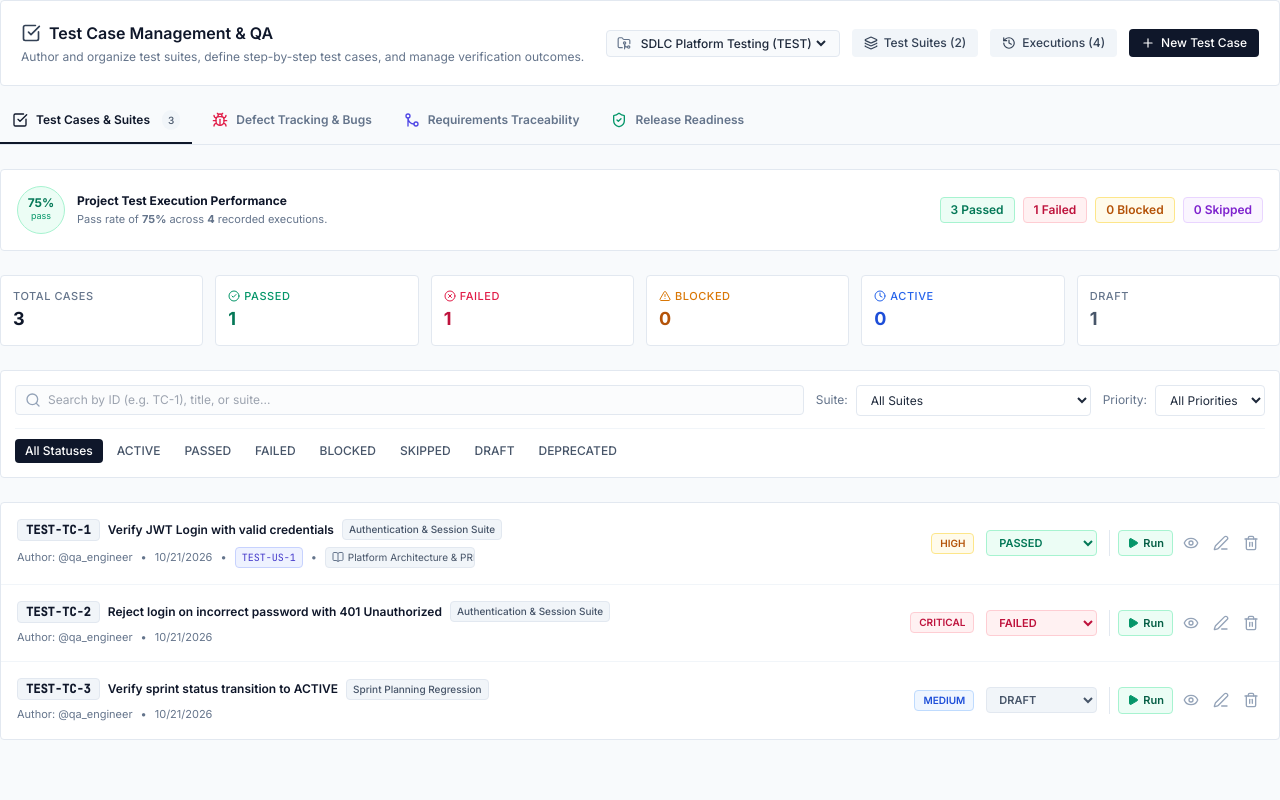
Phase 5: Test Case Management Components › displays linked defects in Test Case Details modal
The width and height of the screenshot is (1280, 800).
Expected: the text "TEST-TC-1" is shown, [17, 518, 100, 540]
# Open test case detail modal
Step 1. Click the button titled "View Test Case Details" in the row of "HIGH" → (1191, 543), box [1179, 531, 1203, 555]
(page scrolled)
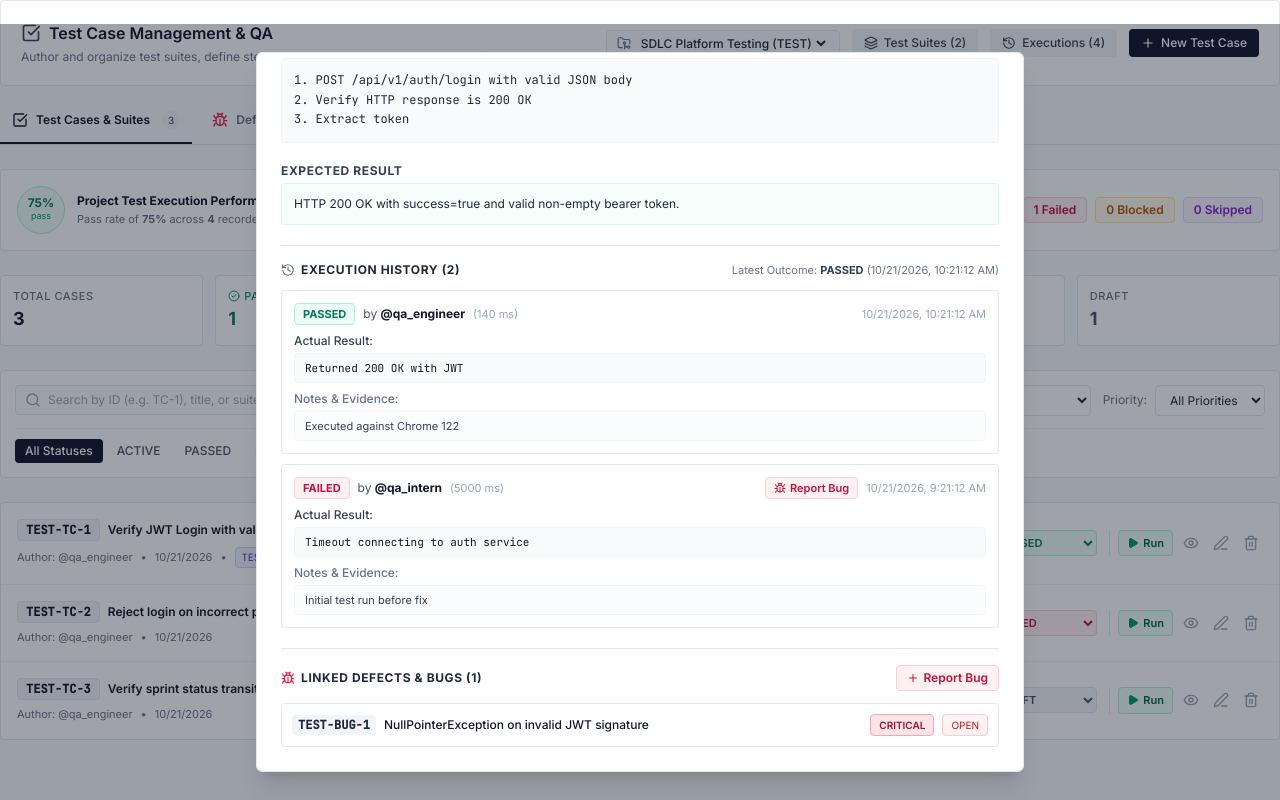
Expected: the heading "Linked Defects & Bugs (1)" is shown, [281, 670, 482, 686]
Expected: the text "TEST-BUG-1" is shown, [292, 715, 376, 735]
